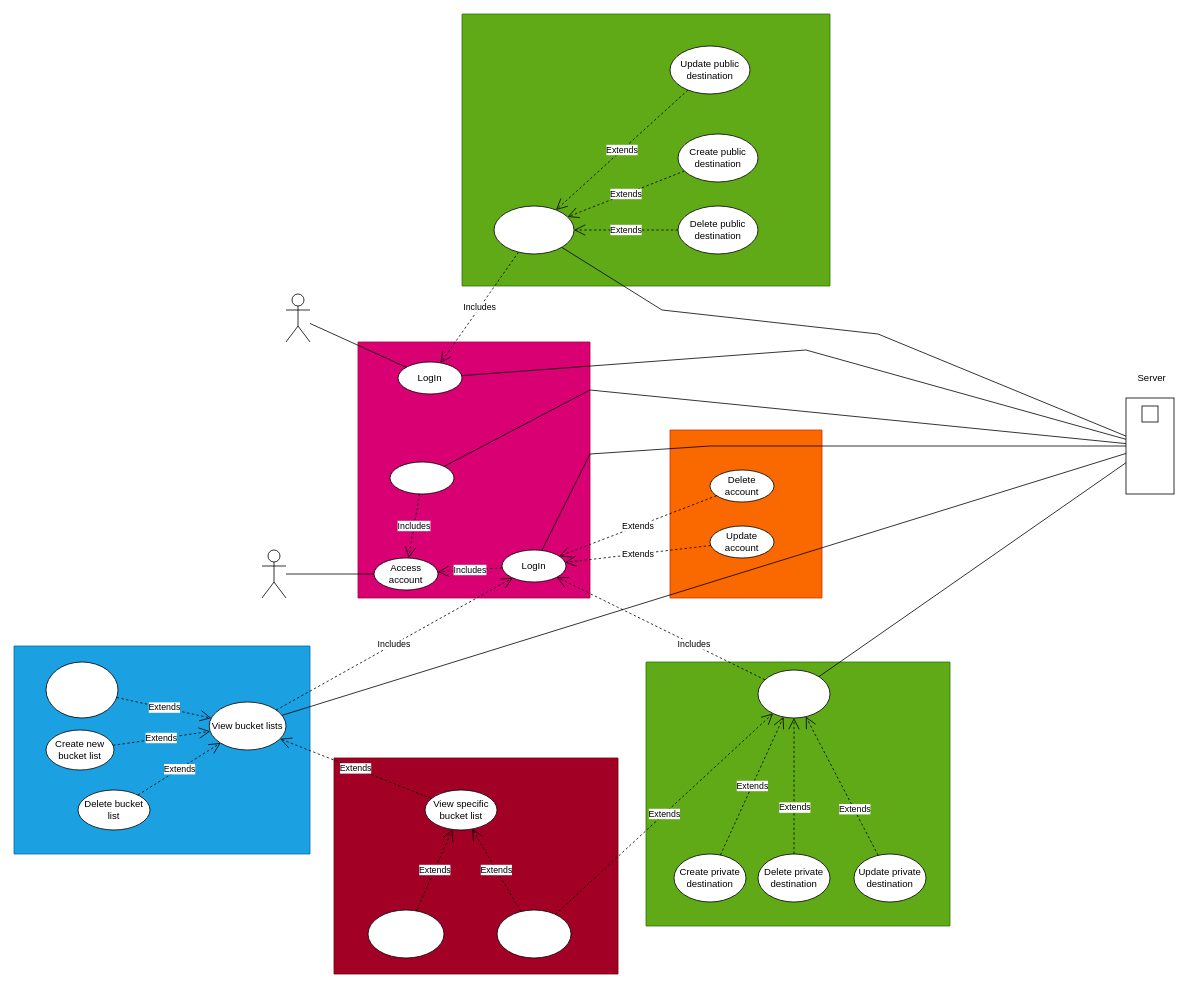
Some shapes in this 1190 by 988 pixel diagram are drawn without their labels. The centre of each missing label's shape, as x and y in pixels:
Add destination to bucket list: [533,933]
Admin: [297,317]
Delete destination from bucket list: [405,933]
Register: [421,477]
Update bucket list: [81,689]
User: [273,573]
View destinations list: [793,693]
View public destinations: [533,229]
